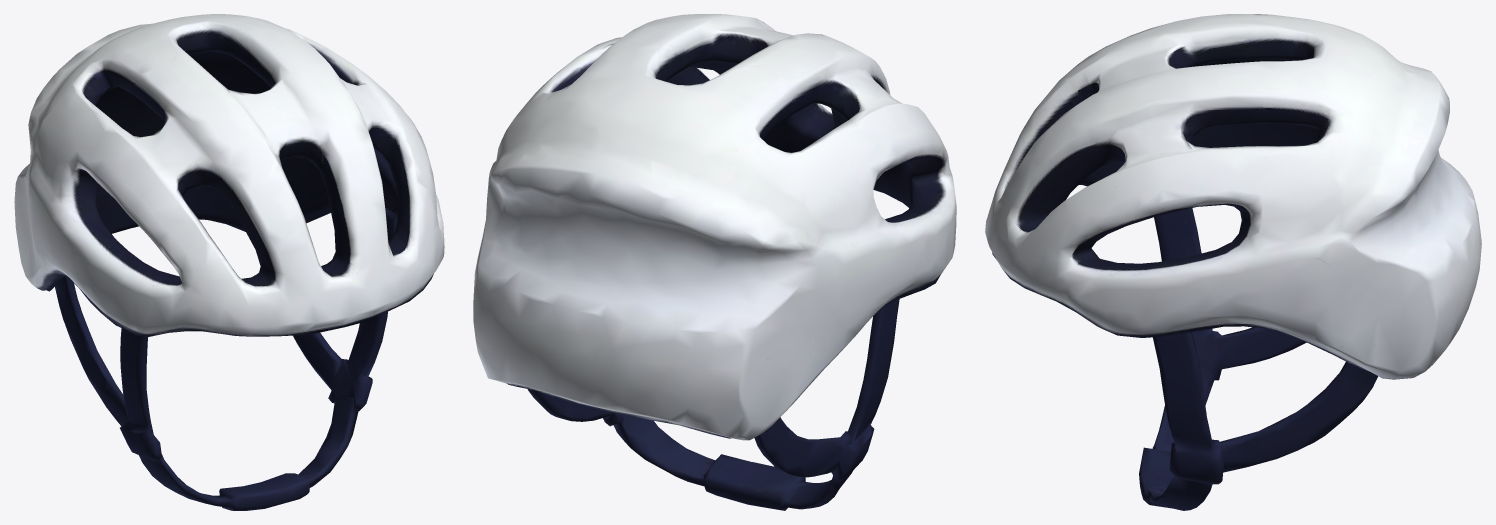
File: helmet-road.glb
3 views of the same model, side by side, from view 1: azimuth 30°, elevation 25°; view 2: azimuth 150°, elevation 25°; view 3: azimuth 270°, elevation 25° (orthographic). The views are drawn at different scales.
Visible parts, largest first — view 1: helmet-road; view 2: helmet-road; view 3: helmet-road.
Part boxes in pixels (x1,y1,x2,y2): helmet-road: (14,14,444,510); helmet-road: (473,14,956,510); helmet-road: (985,14,1481,510).
Bounding box in the file's own units: 0.8313 × 1 × 0.998.
Materials: 1 (1 with a texture image).
